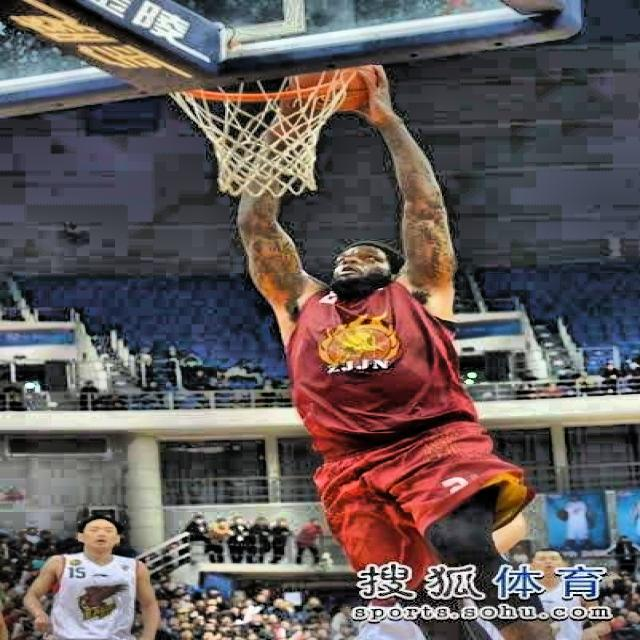rim: (168, 66, 354, 195)
